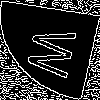W: (25, 25, 88, 81)
